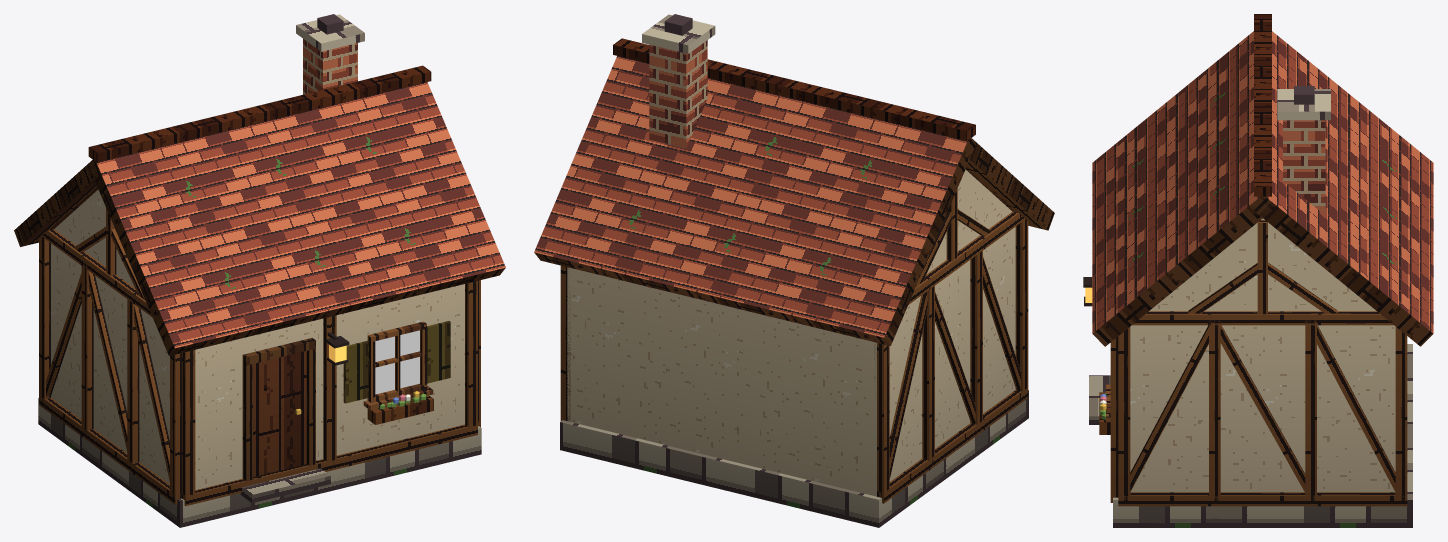
File: cottage_baker.glb
3 renders of one model, left to right at view 1: azimuth 30°, elevation 25°; view 2: azimuth 150°, elevation 25°; view 3: azimuth 270°, elevation 25°, orthographic. The views are drawn at different scales.
Parts seen in each view (by area): view 1: cottage_baker; view 2: cottage_baker; view 3: cottage_baker.
Boxes of the visible parts, x1=… form: cottage_baker: x1=14, y1=14, x2=505, y2=527; cottage_baker: x1=534, y1=14, x2=1054, y2=527; cottage_baker: x1=1083, y1=14, x2=1433, y2=527.
Bounding box in the file's own units: 5.94 × 6.52 × 5.09.
Materials: 8 (5 with a texture image).
